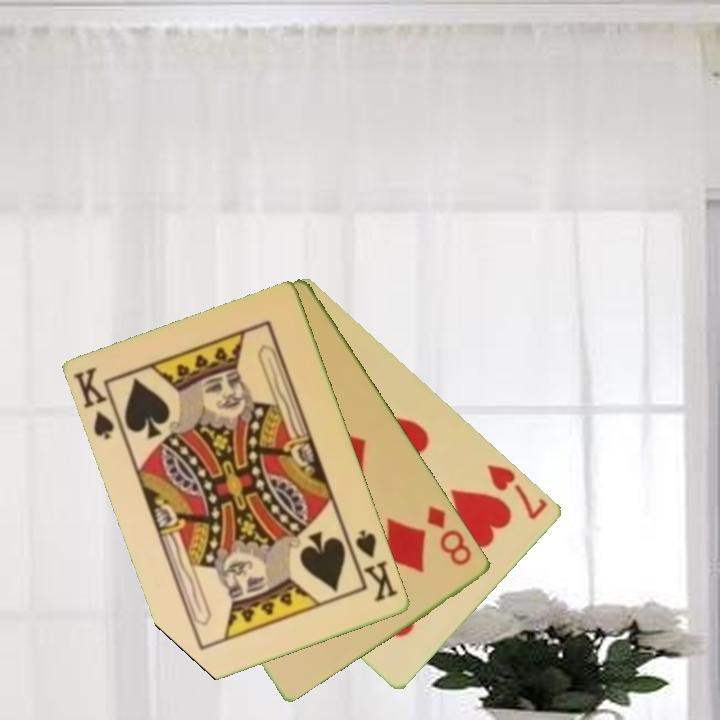7h: (484, 460, 551, 523)
8d: (424, 502, 475, 569)
Ks: (70, 363, 128, 443), (345, 526, 401, 605)
